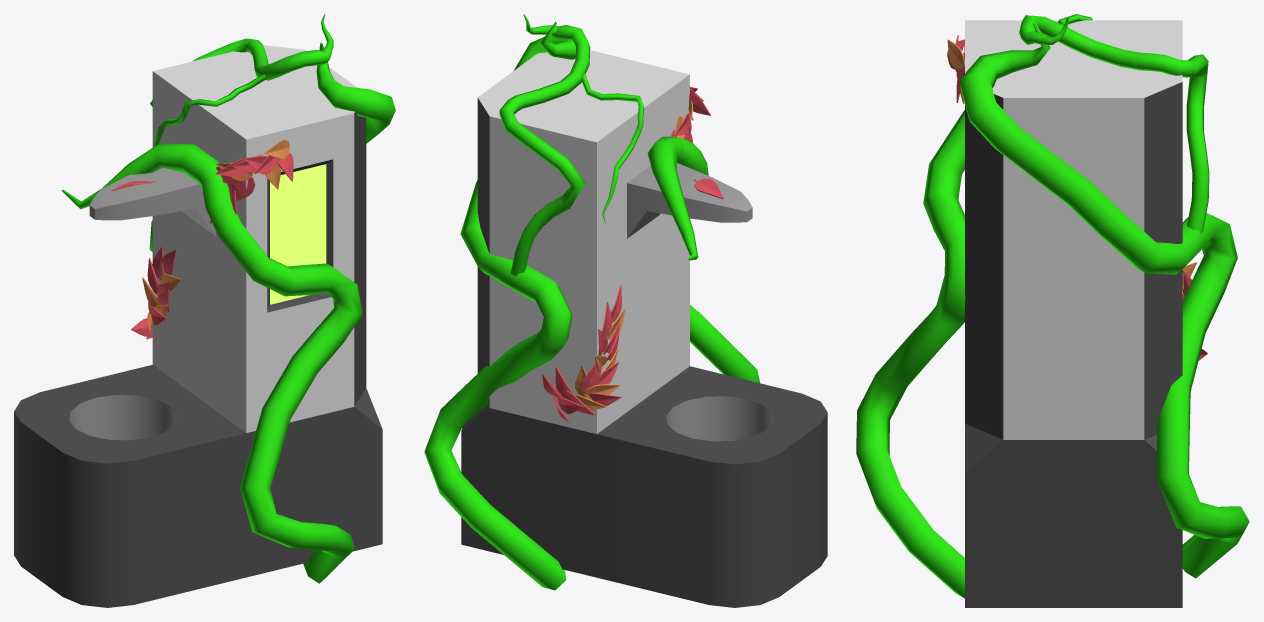
Rendered from Cargador.Origen.fbx.
3 views of the same model, side by side, from view 1: azimuth 30°, elevation 25°; view 2: azimuth 150°, elevation 25°; view 3: azimuth 270°, elevation 25° (orthographic). The views are drawn at different scales.
Visible parts, largest first — view 1: Plane.003, Plane.004, Plane.006, Plane.005, Plane.002, Plane.027, Plane.001; view 2: Plane.003, Plane.004, Plane.006, Plane.005, Plane.027, Plane.001; view 3: Plane.003, Plane.004, Plane.006, Plane.001, Plane.027.
Part boxes in pixels (<box>): Plane.003: <box>14,112,382,607</box>; Plane.004: <box>152,45,356,432</box>; Plane.006: <box>61,14,395,583</box>; Plane.005: <box>69,167,215,440</box>; Plane.002: <box>270,164,326,304</box>; Plane.027: <box>111,153,293,339</box>; Plane.001: <box>142,139,289,331</box>; Plane.003: <box>461,98,827,607</box>; Plane.004: <box>478,50,689,433</box>; Plane.006: <box>424,14,760,590</box>; Plane.005: <box>627,163,772,441</box>; Plane.027: <box>542,87,723,422</box>; Plane.001: <box>575,100,693,410</box>; Plane.003: <box>965,82,1182,607</box>; Plane.004: <box>965,20,1182,439</box>; Plane.006: <box>856,14,1249,598</box>; Plane.001: <box>947,39,1196,289</box>; Plane.027: <box>947,35,1207,360</box>.
Size of the model in its own units: 108 by 164 by 96.54.
